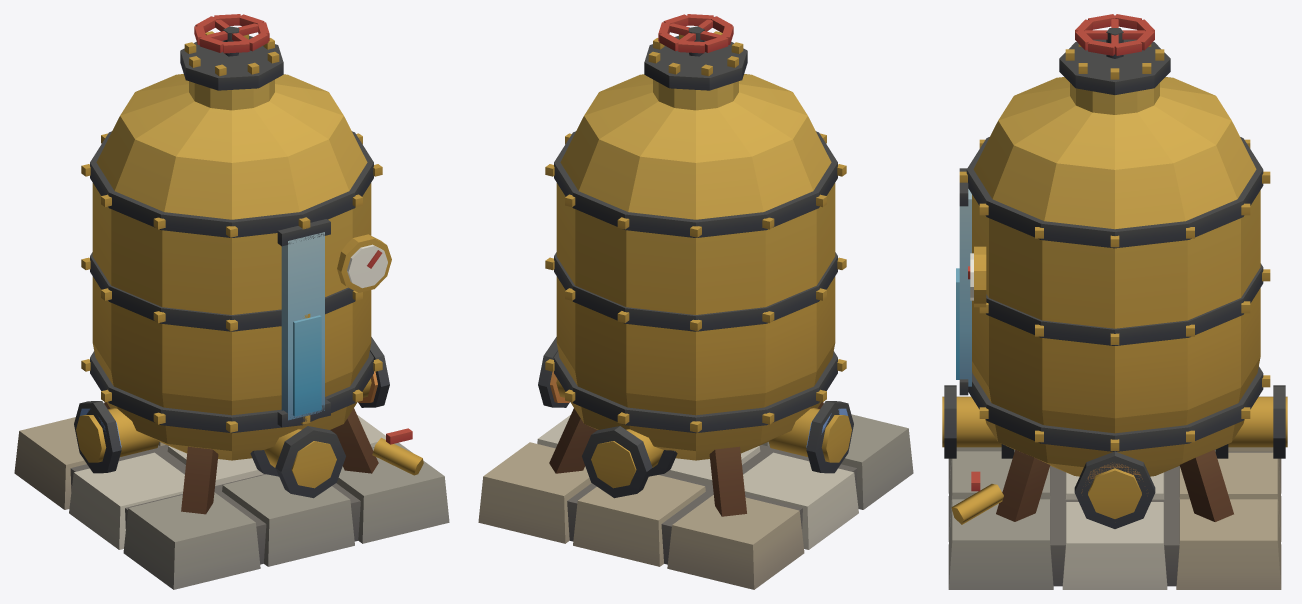
Rendered from logi_fluid_tank.glb.
The picture shows the model from 3 angles, left to right: view 1: azimuth 30°, elevation 25°; view 2: azimuth 150°, elevation 25°; view 3: azimuth 270°, elevation 25°; orthographic projection. The views are drawn at different scales.
Visible parts, largest first — view 1: logi_fluid_tank; view 2: logi_fluid_tank; view 3: logi_fluid_tank.
Boxes of the visible parts, x1,y1,x2,y2 form: logi_fluid_tank: (14,14,449,589); logi_fluid_tank: (478,14,913,589); logi_fluid_tank: (942,14,1287,589).
Bounding box in the file's own units: 3.84 × 6 × 3.84.
Materials: 1 (1 with a texture image).
